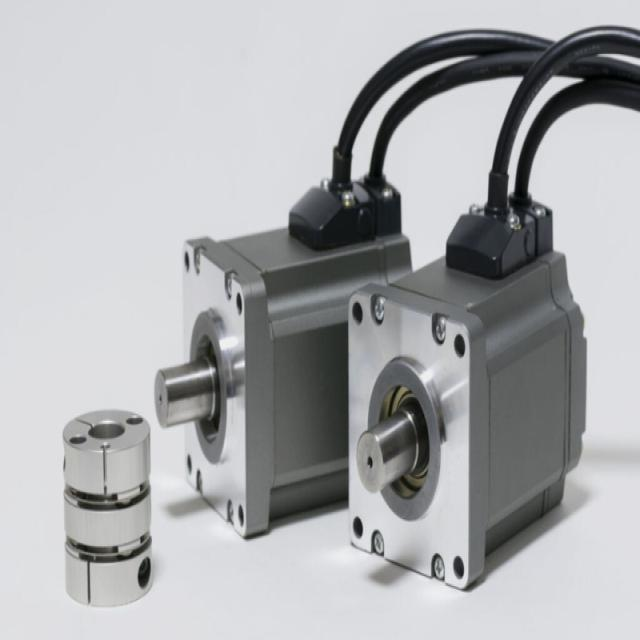servomotor: (173, 154, 604, 584)
